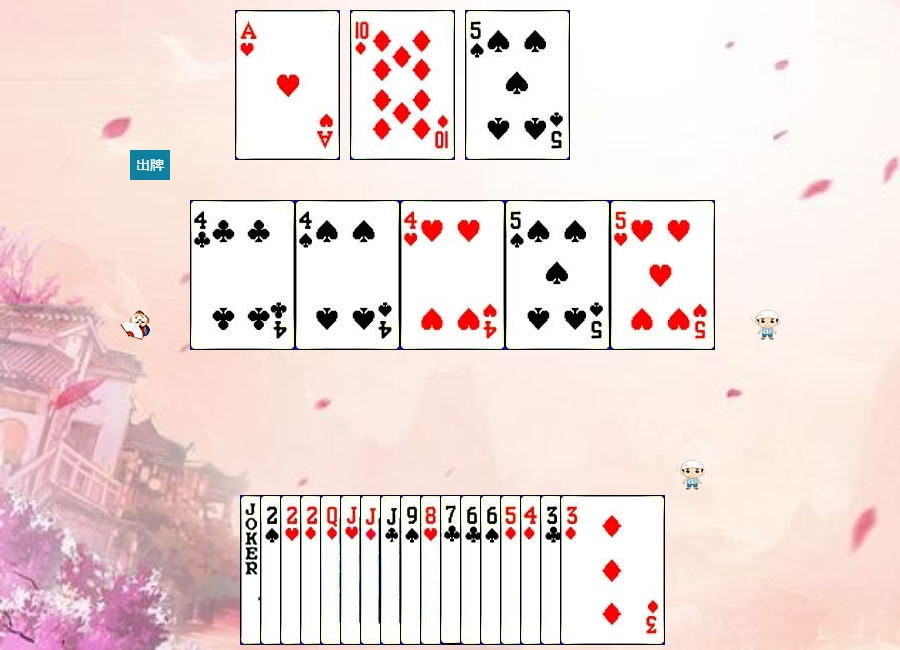10~1: (350, 10, 455, 160)
11~1: (360, 495, 465, 645)
11~2: (380, 495, 485, 645)
11~3: (340, 495, 445, 645)
12~1: (320, 495, 425, 645)
14~3: (235, 10, 340, 160)
15~1: (300, 495, 405, 645)
15~3: (280, 495, 385, 645)
15~4: (260, 495, 365, 645)
17~3: (240, 495, 345, 645)
3~1: (560, 495, 665, 645)
3~2: (540, 495, 645, 645)
4~1: (520, 495, 625, 645)
4~2: (190, 200, 295, 350)
4~3: (400, 200, 505, 350)
4~4: (295, 200, 400, 350)
5~1: (500, 495, 605, 645)
5~3: (610, 200, 715, 350)
5~4: (465, 10, 570, 160), (505, 200, 610, 350)
6~2: (460, 495, 565, 645)
6~4: (480, 495, 585, 645)
7~2: (440, 495, 545, 645)
8~3: (420, 495, 525, 645)
9~4: (400, 495, 505, 645)
